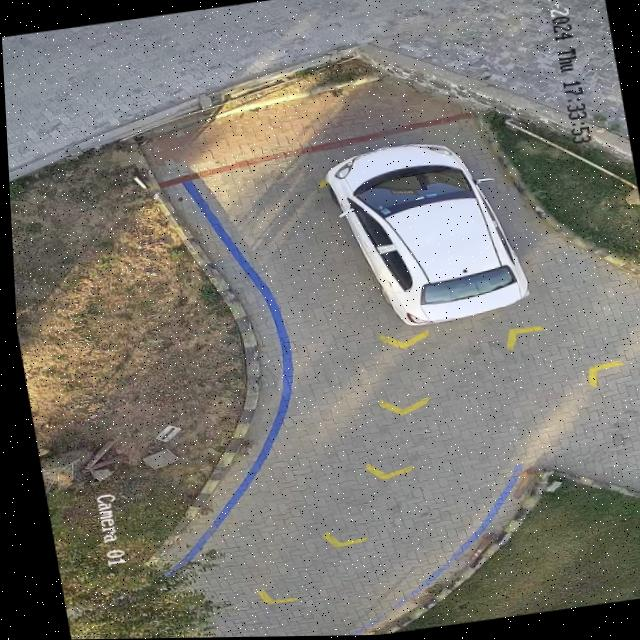car: (322, 138, 523, 327)
